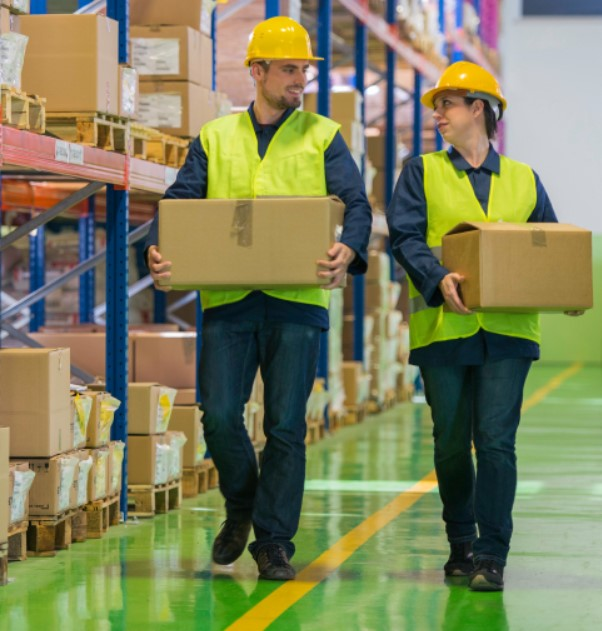stock: (156, 197, 343, 289), (440, 222, 595, 310)
worker: (196, 15, 332, 314), (412, 59, 541, 344)
